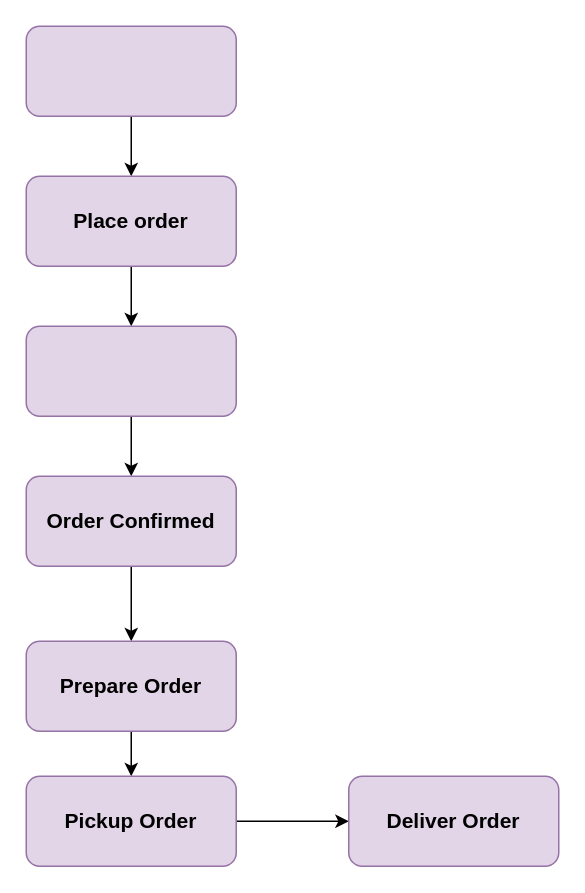
The diagram is 585 pixels wide and 893 high, and some of its shapes have lost their labels. Each missing label, with the box of its shape:
Browse Restaurant: (25, 25, 236, 116)
Make Payment: (25, 325, 236, 416)
